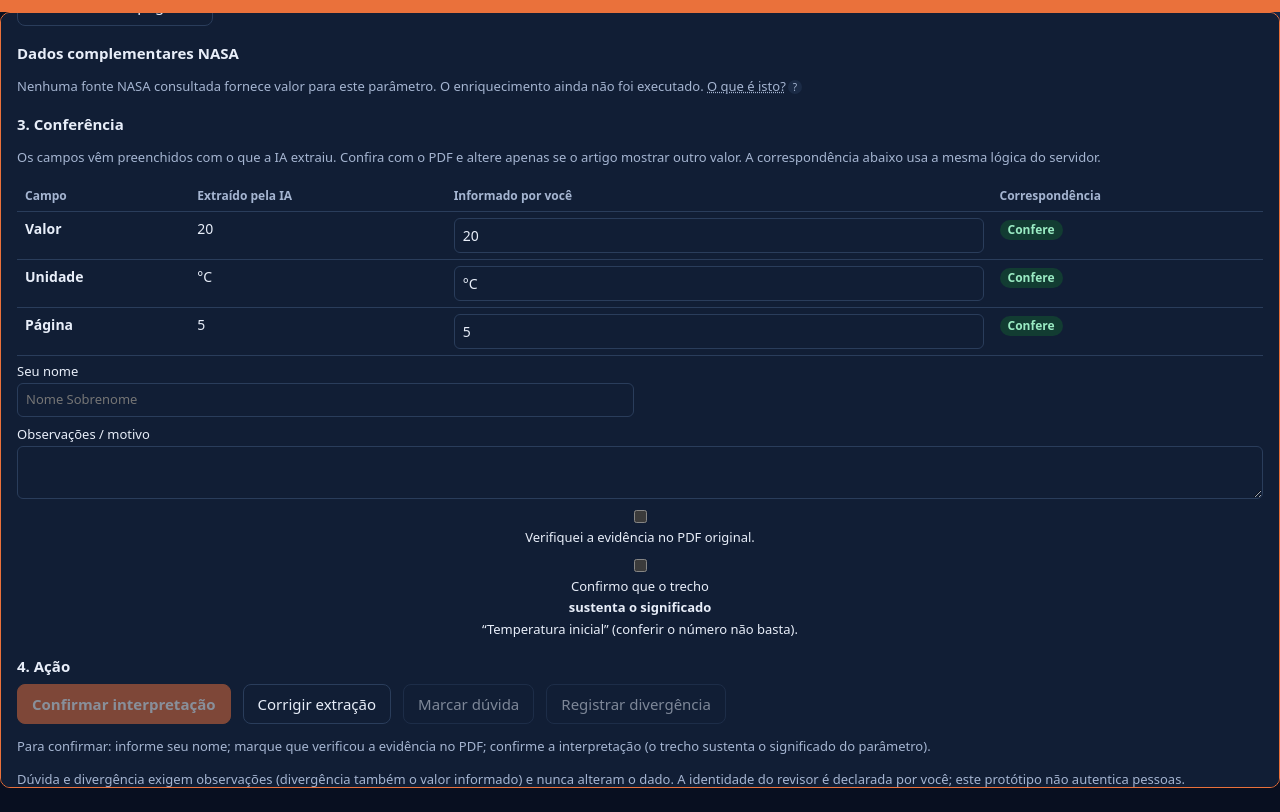
Test case: C. conferência assistida (sem redigitar) › o botão de confirmar só habilita com nome, declaração e prévia aceita
(page scrolled)
Expected: the text "Confere" is shown 3 times, left=1000, top=220, right=1062, bottom=240; left=1000, top=268, right=1062, bottom=288; left=1000, top=316, right=1062, bottom=336
Expected: the button "Confirmar interpretação" is disabled, left=17, top=684, right=230, bottom=724
Type "Ana Souza" into the field labelled "Seu nome" at (326, 400), box left=17, top=383, right=634, bottom=416
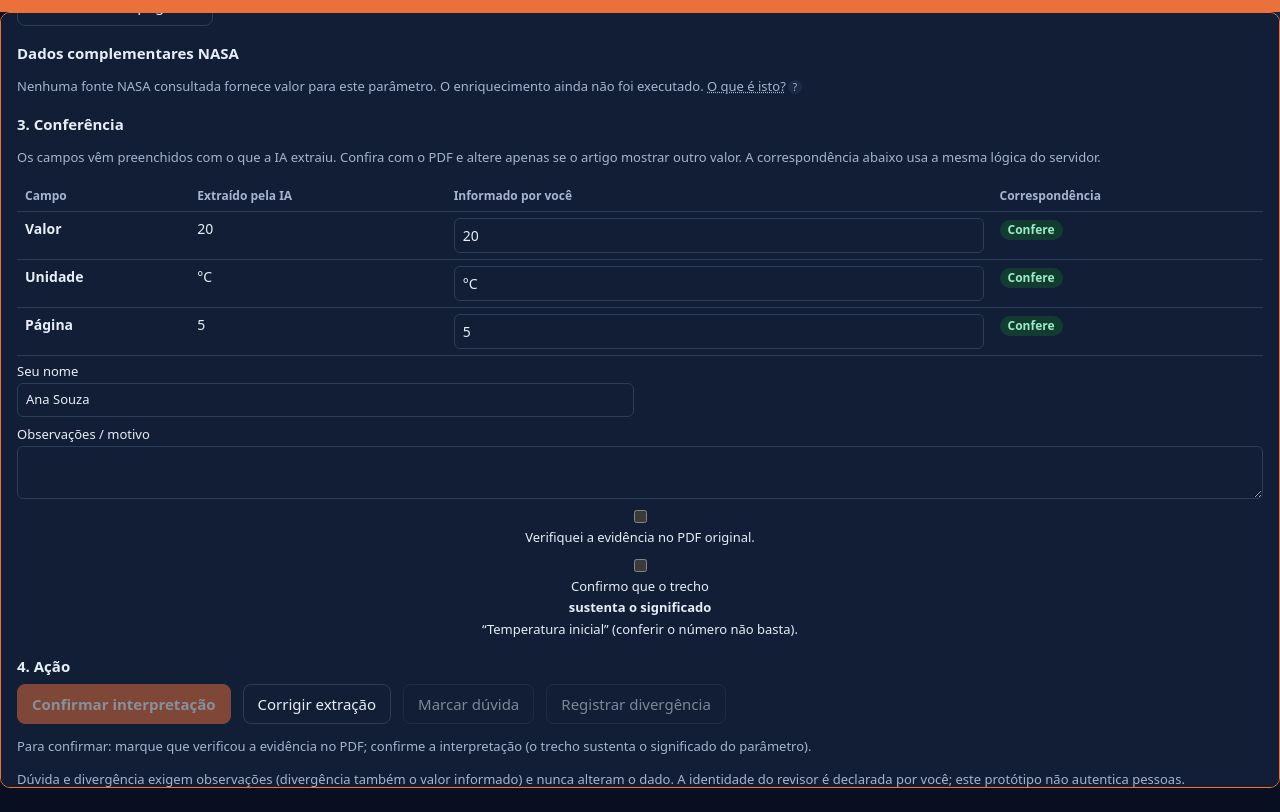
Expected: the button "Confirmar interpretação" is disabled, left=17, top=684, right=230, bottom=724
Click the checkbox labelled "Verifiquei a evidência no PDF original." at (640, 516), box left=634, top=510, right=647, bottom=523
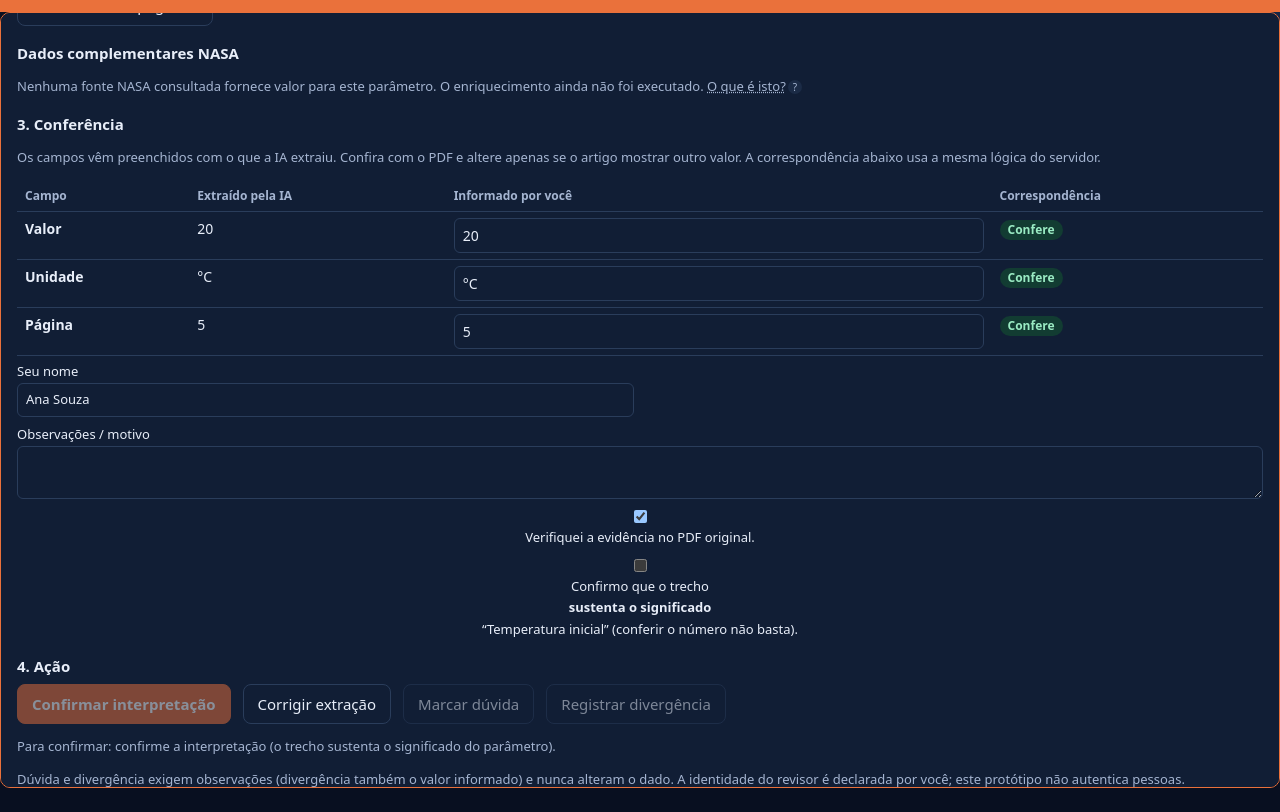
Expected: the button "Confirmar interpretação" is disabled, left=17, top=684, right=230, bottom=724
Click the checkbox labelled "Confirmo que o trecho" at (640, 565), box left=634, top=558, right=647, bottom=572
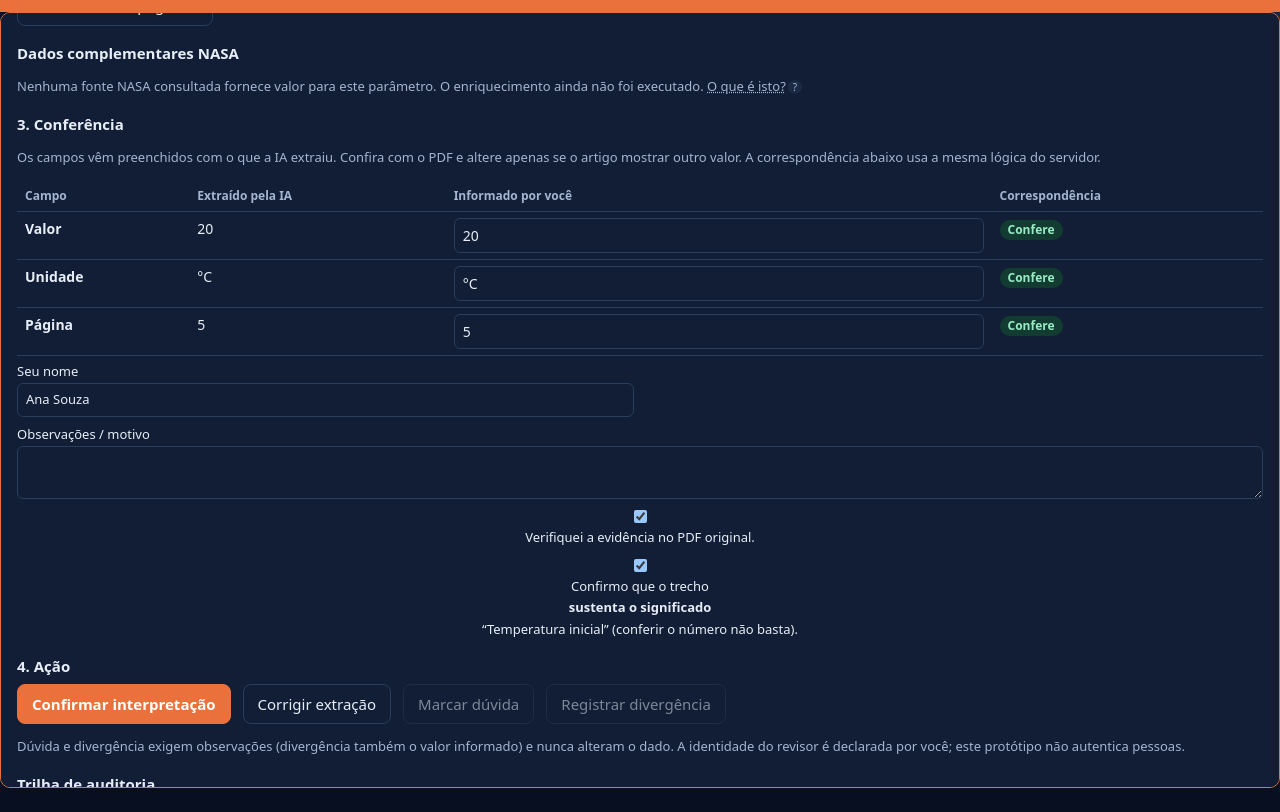
Expected: the button "Confirmar interpretação" is enabled, left=17, top=684, right=230, bottom=724
